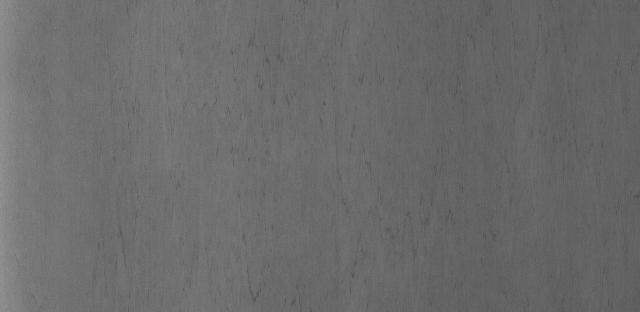silk_spot: (221, 36, 488, 289)
